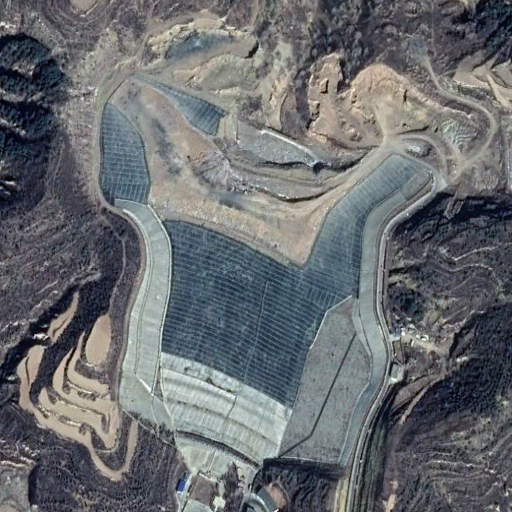lf: (101, 75, 438, 468)
